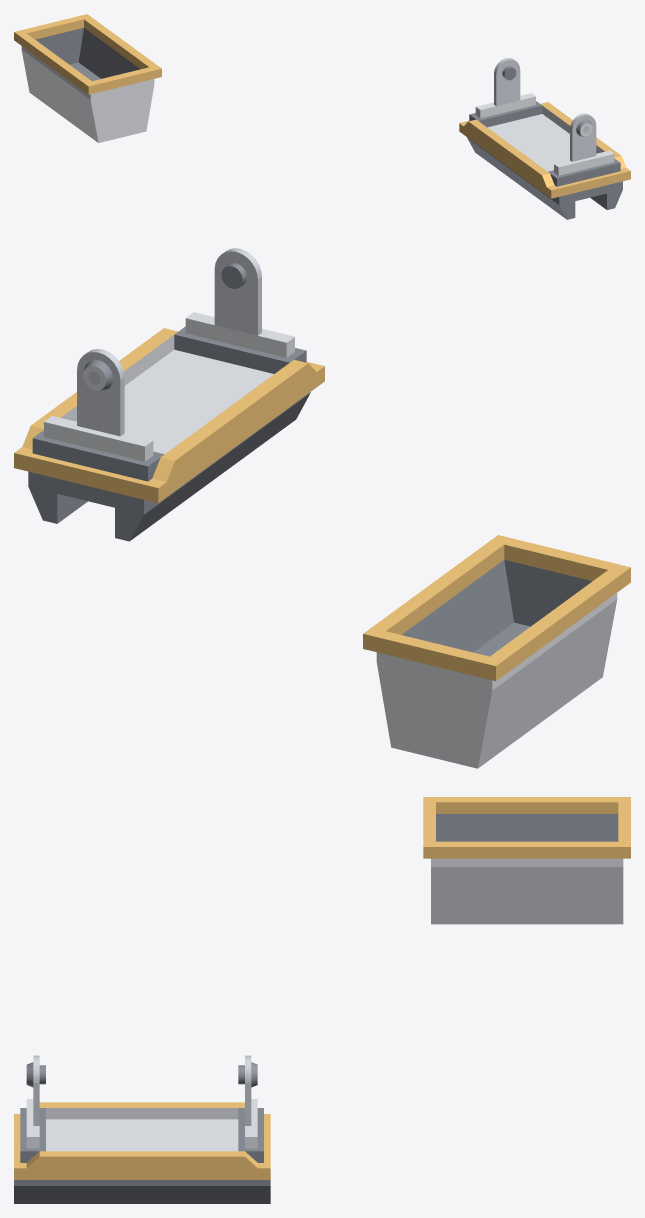
Rendered from monorail_trainCargo.glb.
3 renders of one model, top to bottom at view 1: azimuth 30°, elevation 25°; view 2: azimuth 150°, elevation 25°; view 3: azimuth 270°, elevation 25°, orthographic. The views are drawn at different scales.
Visible parts, largest first — view 1: monorail_trainCargo, load; view 2: monorail_trainCargo, load; view 3: monorail_trainCargo, load.
Part boxes in pixels (box(x1,y1,x2,y2)): monorail_trainCargo: box(459, 58, 630, 219); load: box(14, 14, 161, 142); monorail_trainCargo: box(14, 248, 324, 541); load: box(363, 535, 630, 768); monorail_trainCargo: box(14, 1055, 270, 1203); load: box(423, 797, 630, 924).
Bounding box in the file's own units: 2.48 × 0.64 × 2.4.
